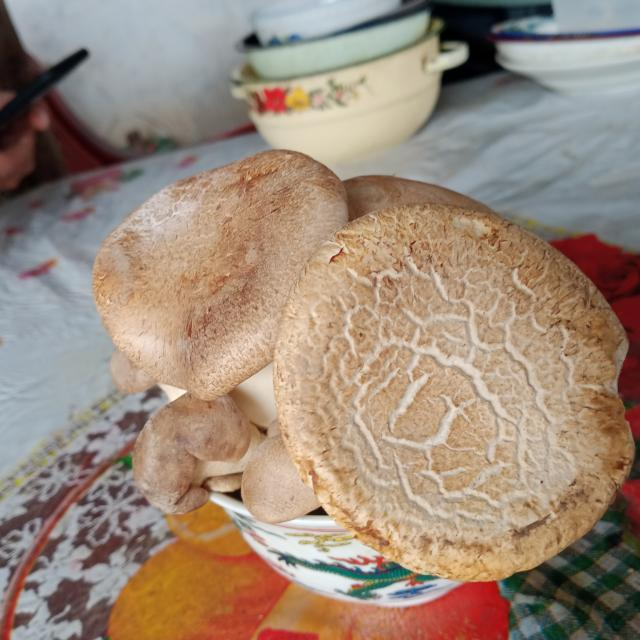Pleurotus cystidiosus: (88, 149, 640, 585)
